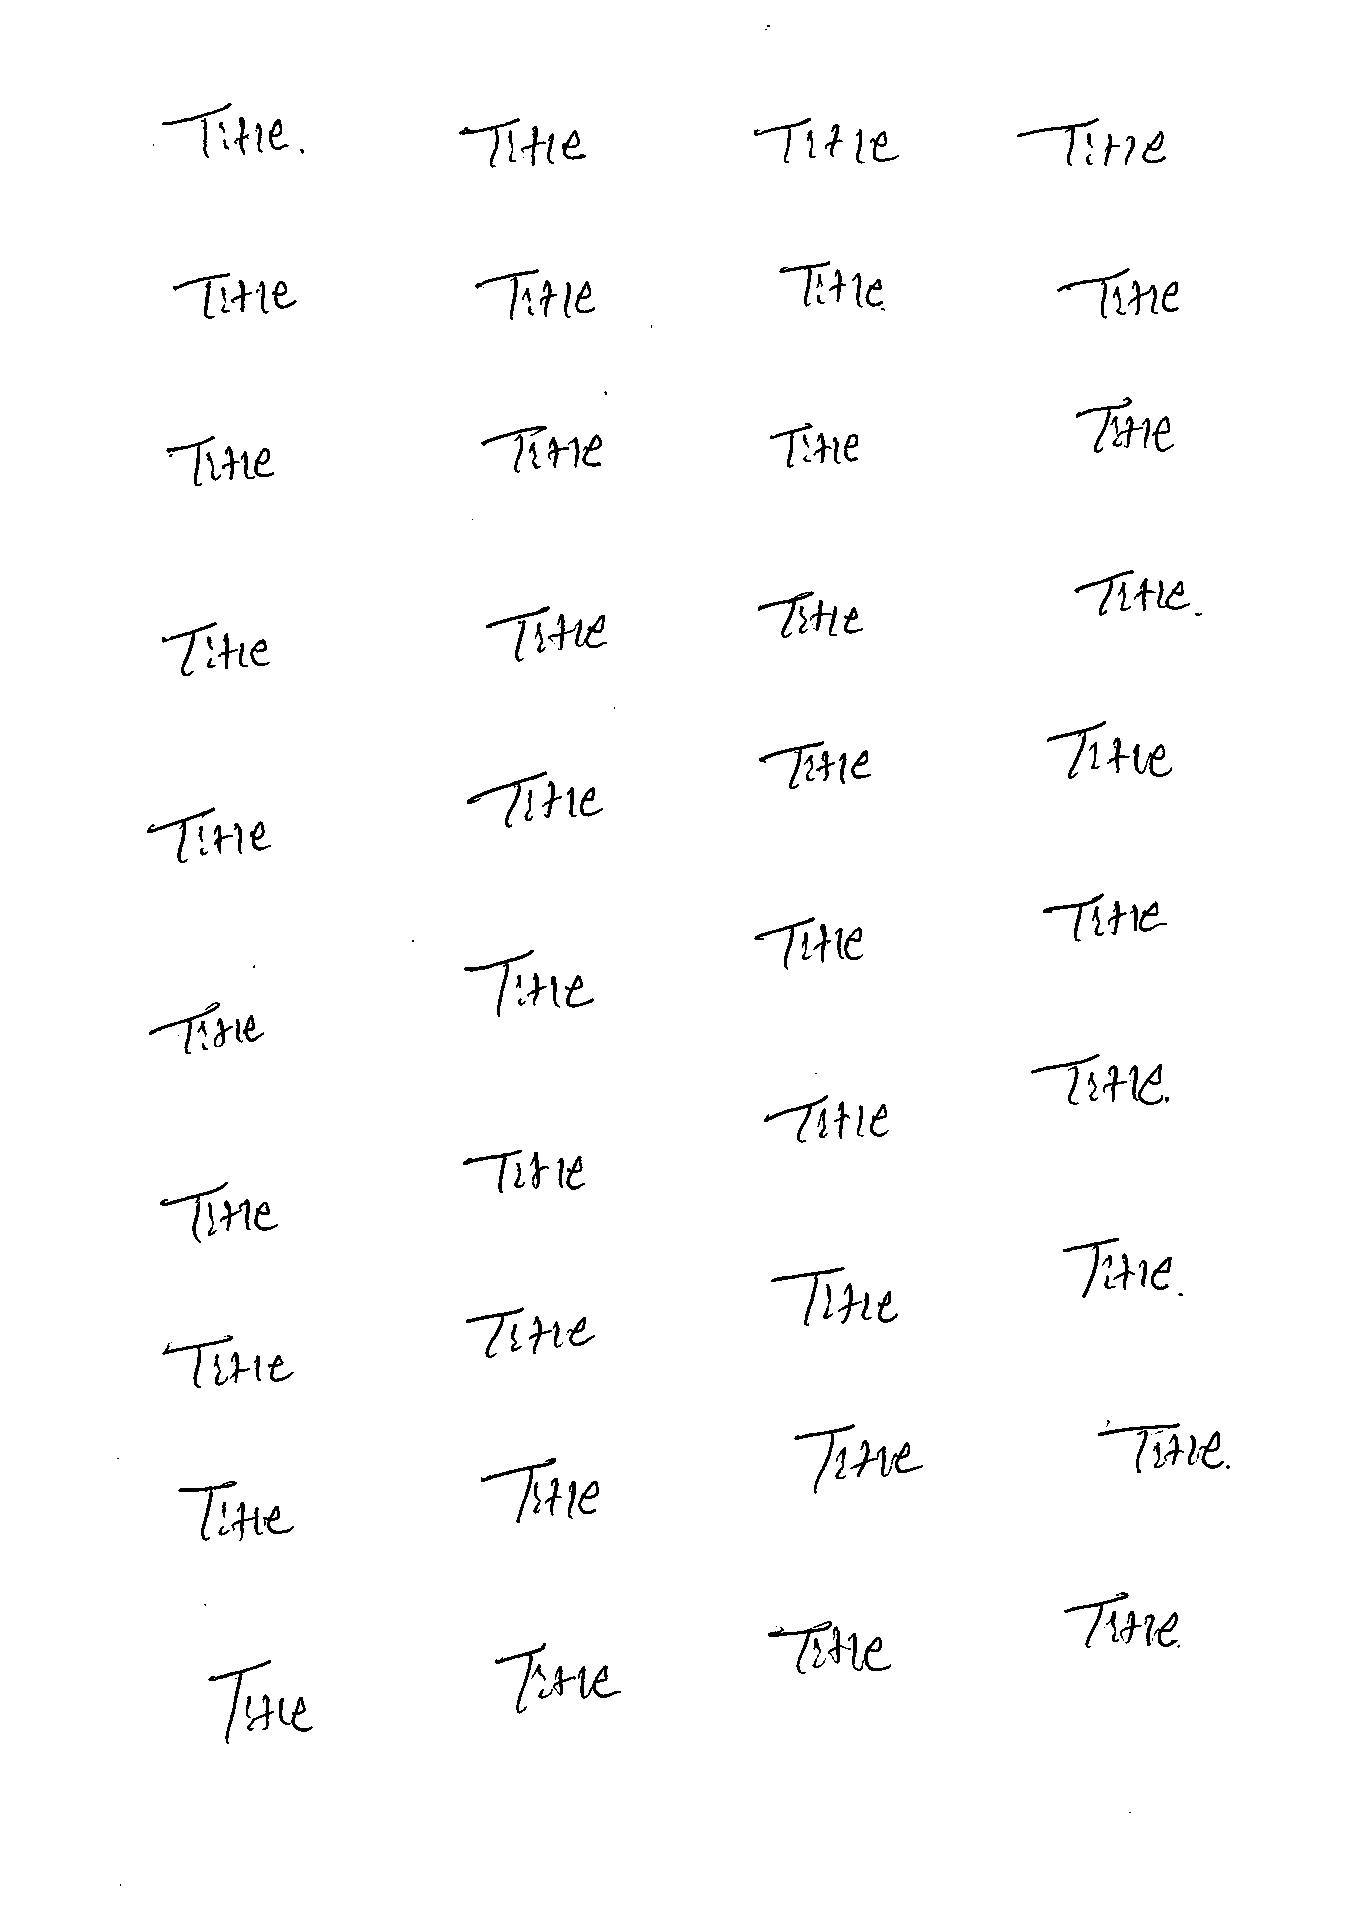Heading: (792, 1421, 925, 1495), (205, 1657, 313, 1746), (492, 1644, 625, 1714), (463, 769, 608, 831), (461, 948, 596, 1014), (478, 1456, 600, 1526), (160, 1332, 296, 1394), (1014, 115, 1166, 169), (160, 1180, 279, 1246), (1029, 1053, 1172, 1107), (1047, 720, 1174, 781), (769, 1266, 896, 1326), (463, 1306, 593, 1365), (143, 804, 272, 863), (161, 101, 288, 160), (751, 115, 900, 166), (1060, 1235, 1175, 1300), (483, 605, 608, 664), (473, 265, 600, 322), (176, 1479, 291, 1541), (455, 115, 588, 169), (1061, 1592, 1181, 1652), (1094, 1422, 1230, 1474), (1056, 265, 1183, 319), (764, 1623, 894, 1677), (169, 271, 300, 322), (1041, 892, 1168, 945), (157, 622, 273, 679), (478, 424, 608, 475), (145, 1001, 263, 1056), (458, 1147, 587, 1198), (761, 1096, 891, 1143), (752, 915, 863, 970), (1070, 398, 1172, 457), (778, 259, 886, 313), (164, 433, 275, 486), (758, 739, 869, 791), (1070, 569, 1192, 615), (752, 590, 866, 639), (766, 418, 860, 470)
